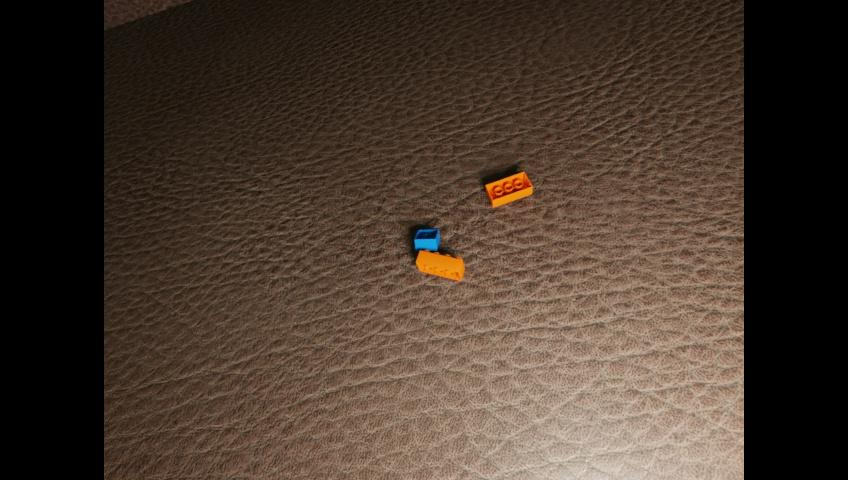2x2_blue: (414, 228, 438, 252)
4x2_orange: (485, 171, 531, 207), (415, 249, 463, 280)
